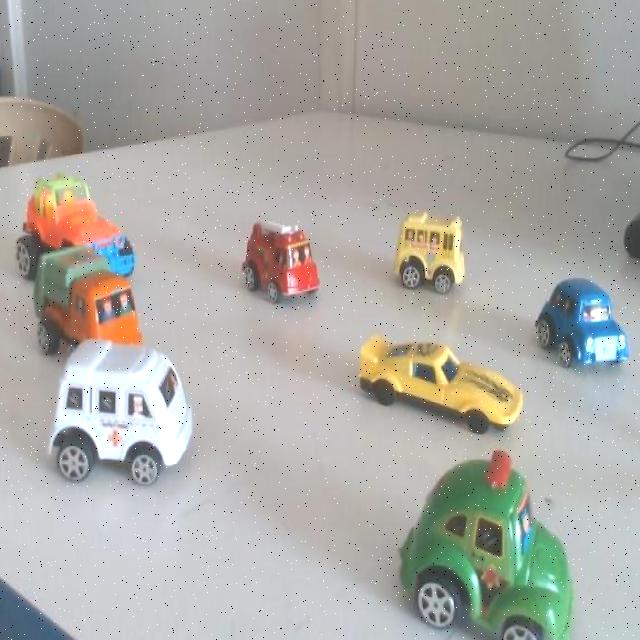car: (63, 318, 222, 512), (433, 464, 586, 640), (376, 322, 512, 446), (52, 168, 145, 287), (386, 205, 481, 314), (239, 205, 323, 328), (62, 235, 137, 366), (552, 273, 631, 377)
